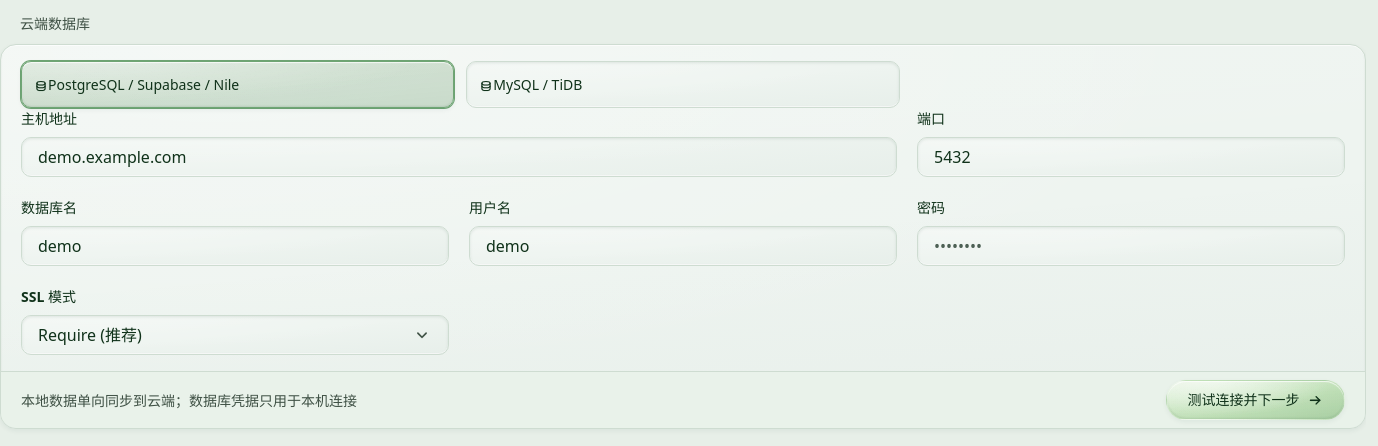
Scenario: DataSyncPanel design-system composition › shows compare error with em-dash stats and disables sync instead of fake empty state
Expected: the field labelled "主机地址" is shown, [21,137,897,177]
Click the button "测试连接并下一步" at (1256, 400), box [1166,380,1345,420]
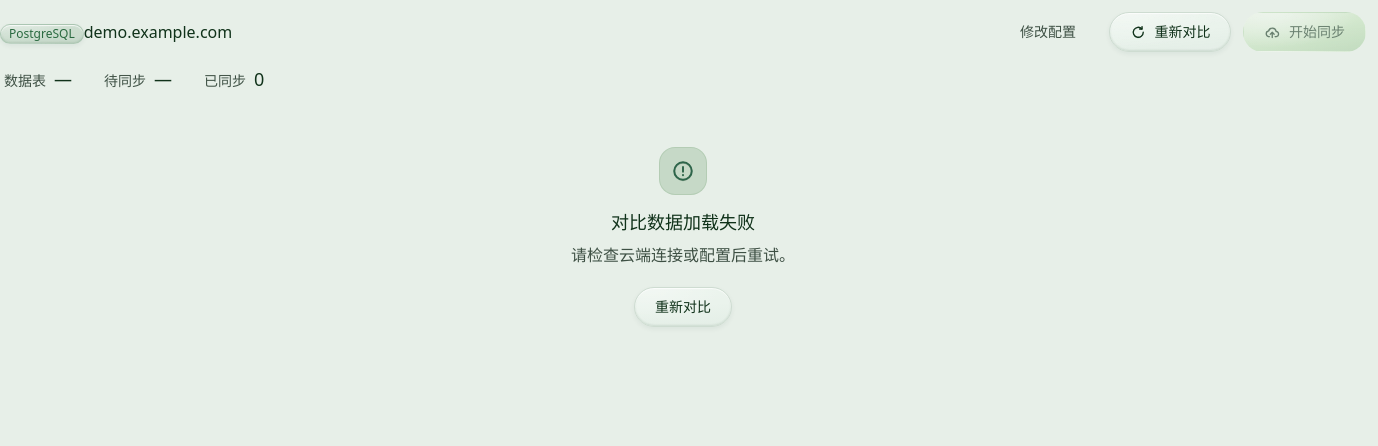
Now the message shows "对比数据加载失败", box [611,210,755,234]
Now the text "—" next to "待同步" is shown, box [154,67,172,91]
Now the button "开始同步" is disabled, box [1244,12,1366,52]
Click the button "重新对比" below "请检查云端连接或配置后重试。" at (683, 307), box [634,287,732,327]
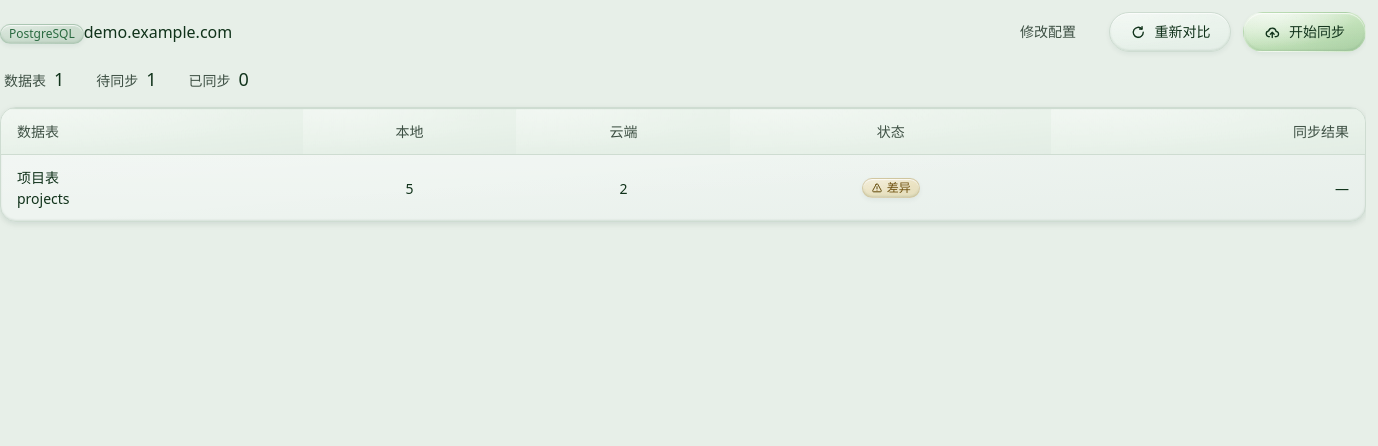
Now the table named "数据对比明细" is shown, box [1,108,1365,221]
Now the 1st text "1" is shown, box [54,68,64,91]
Now the button "开始同步" is enabled, box [1244,12,1366,52]
